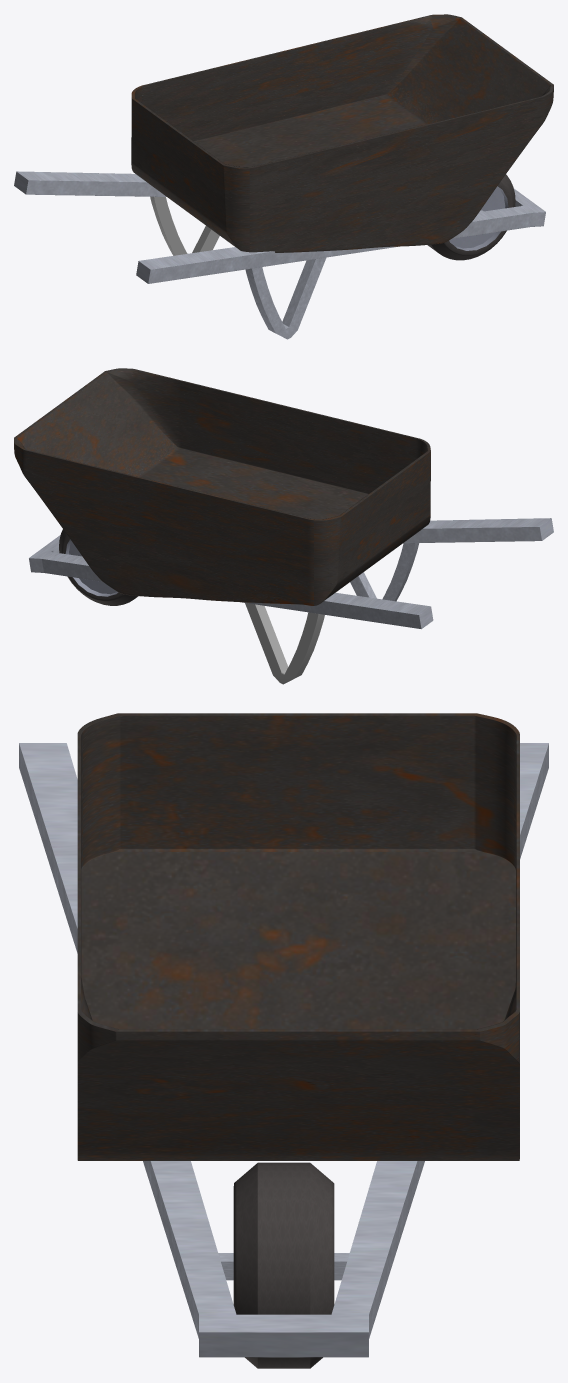
Rendered from wheelbarrow.fbx.
3 renders of one model, top to bottom at view 1: azimuth 30°, elevation 25°; view 2: azimuth 150°, elevation 25°; view 3: azimuth 270°, elevation 25°, orthographic. The views are drawn at different scales.
Parts seen in each view (by area): view 1: pCube1, pCube4, pCube3, pCube5, pCylinder3, pCylinder2; view 2: pCube1, pCube4, pCube5, pCube3, pCylinder3, pCylinder2; view 3: pCube1, pCube4, pCylinder3.
Part boxes in pixels (x1,y1,x2,y2): pCube1: [131, 14, 553, 252]; pCube4: [14, 171, 545, 283]; pCube3: [245, 257, 326, 339]; pCube5: [150, 196, 219, 255]; pCylinder3: [427, 174, 515, 260]; pCylinder2: [449, 186, 508, 250]; pCube1: [14, 368, 430, 605]; pCube4: [29, 518, 553, 629]; pCube5: [245, 603, 324, 684]; pCube3: [350, 543, 419, 601]; pCylinder3: [59, 529, 138, 605]; pCylinder2: [65, 539, 118, 596]; pCube1: [77, 713, 519, 1160]; pCube4: [19, 743, 548, 1357]; pCylinder3: [233, 1162, 334, 1368].
Size of the model in its own units: 7.03 by 2.86 by 3.68.
7 materials, 6 textured.
